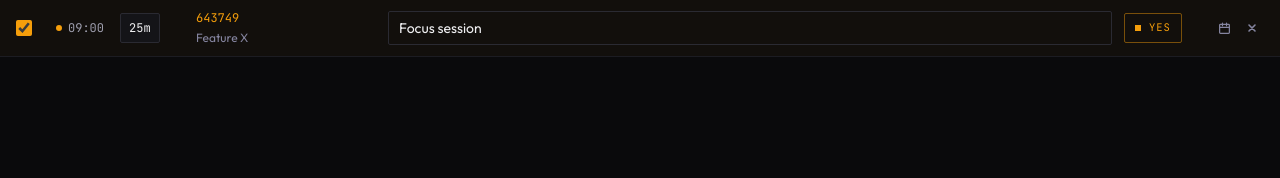
Test case: EntryRow — Task › the picker never prints # before an id
This screenshot has width=1280, height=178.
Click the text with test id "entry-task-id" at (218, 18), box [196,9,239,27]
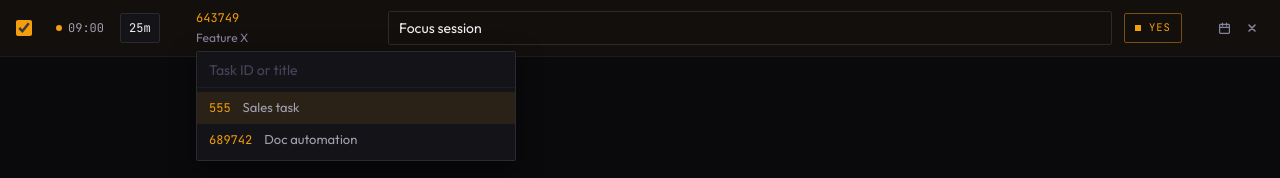
Expected: the option "555 Sales task" is shown, [197,92,515,124]
